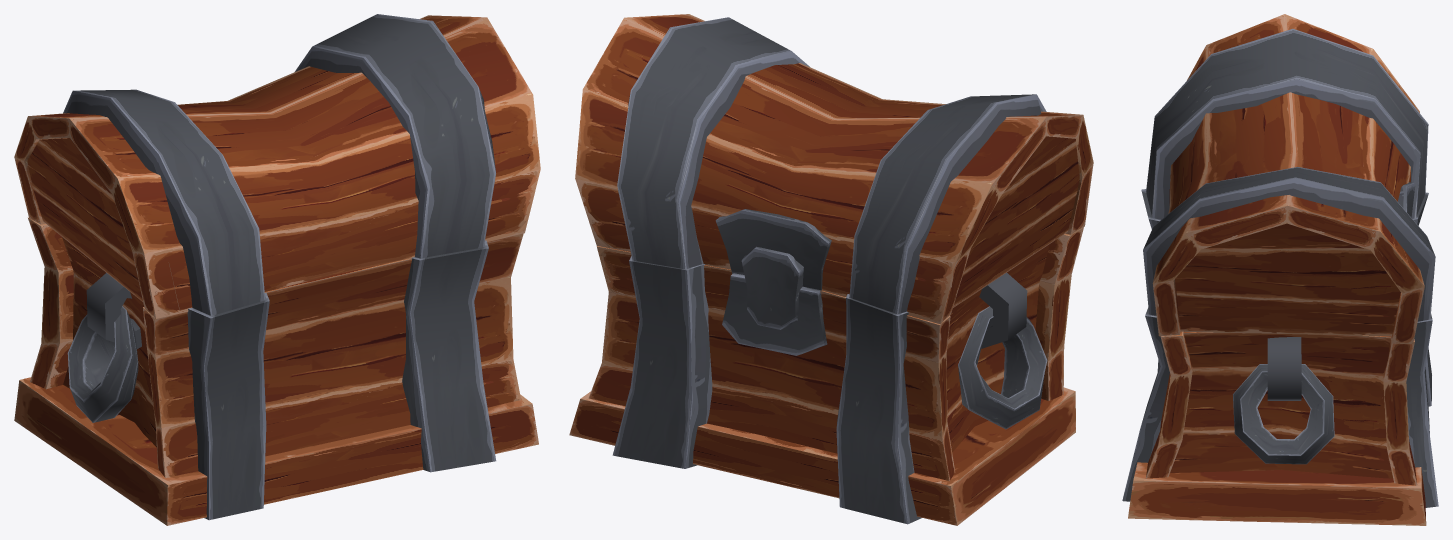
The model's file is SM_PROP_treasurechest.fbx.
3 views of the same model, side by side, from view 1: azimuth 30°, elevation 25°; view 2: azimuth 150°, elevation 25°; view 3: azimuth 270°, elevation 25° (orthographic). The views are drawn at different scales.
Parts seen in each view (by area): view 1: SM_PROP_treasurechest_top, SM_PROP_treasurechest; view 2: SM_PROP_treasurechest_top, SM_PROP_treasurechest; view 3: SM_PROP_treasurechest_top, SM_PROP_treasurechest.
Boxes of the visible parts, x1,y1,x2,y2 form: SM_PROP_treasurechest_top: [14, 14, 540, 318]; SM_PROP_treasurechest: [14, 217, 538, 525]; SM_PROP_treasurechest_top: [575, 14, 1093, 329]; SM_PROP_treasurechest: [569, 227, 1083, 525]; SM_PROP_treasurechest_top: [1143, 14, 1435, 343]; SM_PROP_treasurechest: [1122, 189, 1438, 525].
Size of the model in its own units: 81.65 by 70.09 by 57.69.
